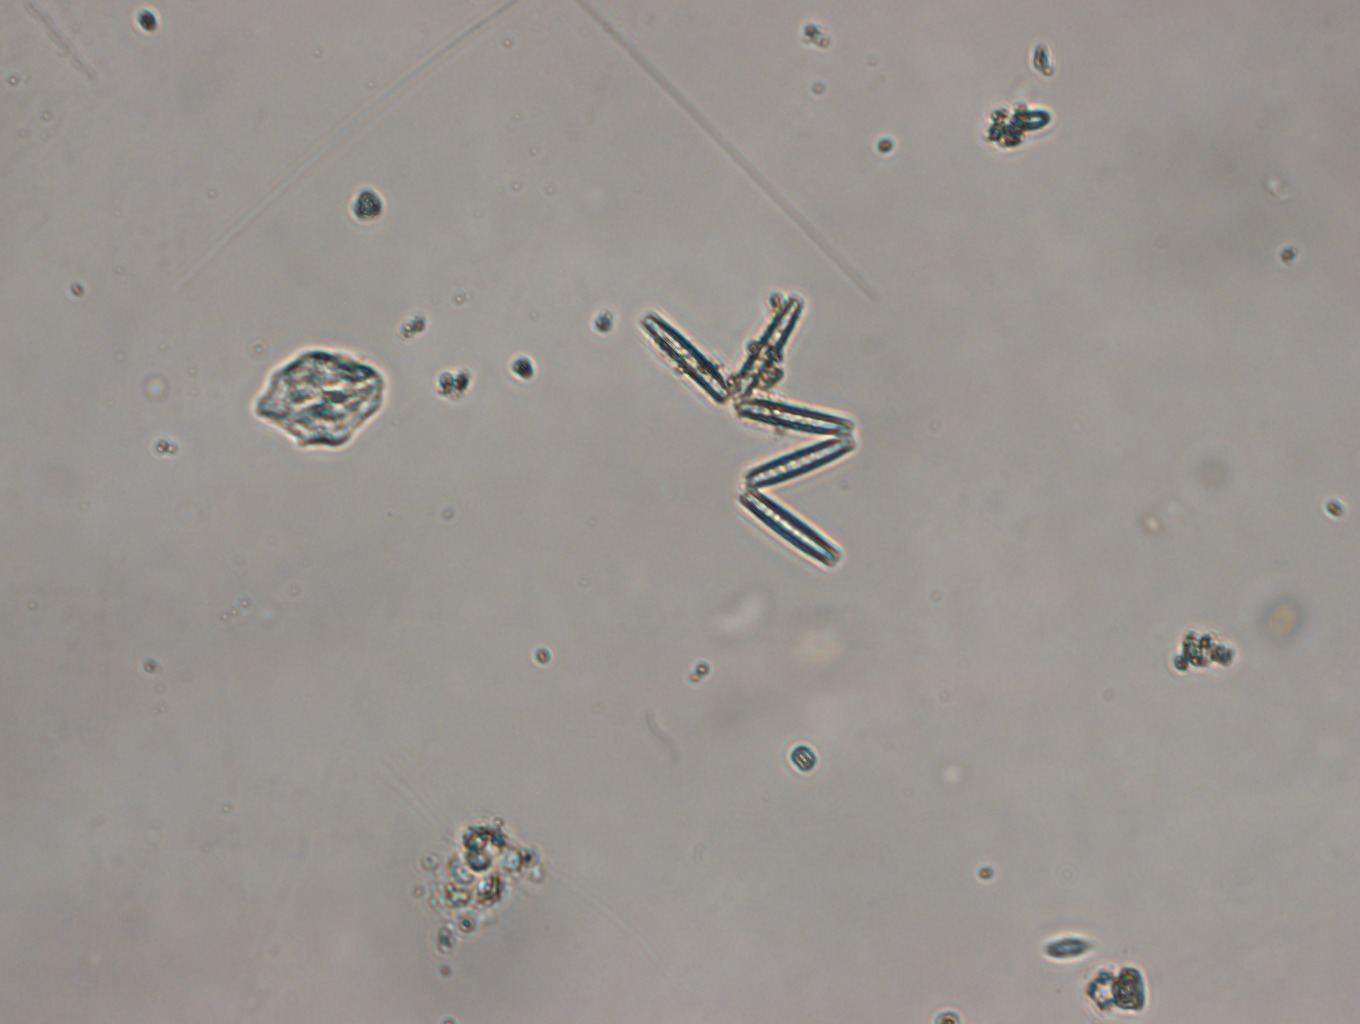thalassionema nitzschioides: (636, 286, 864, 579)
